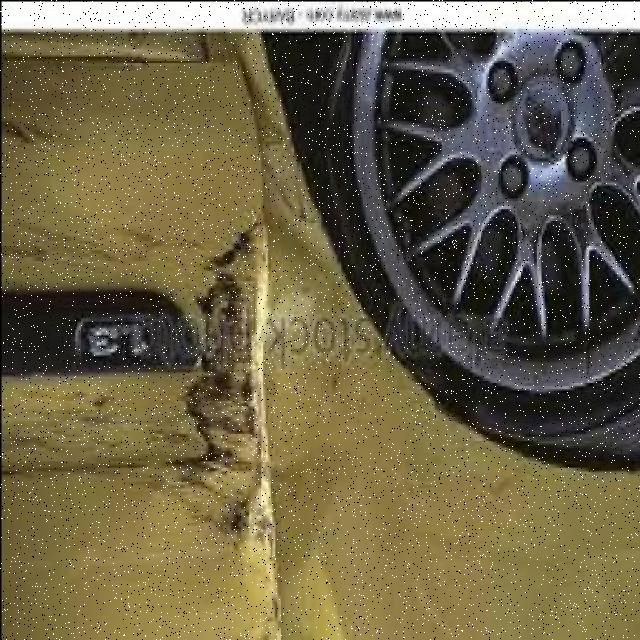damage: (0, 29, 540, 632)
